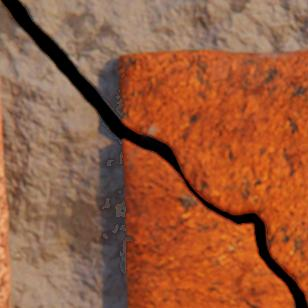brick: (0, 78, 11, 307)
broken_brick: (120, 51, 307, 301), (123, 141, 294, 307)
crack: (0, 0, 307, 307)
